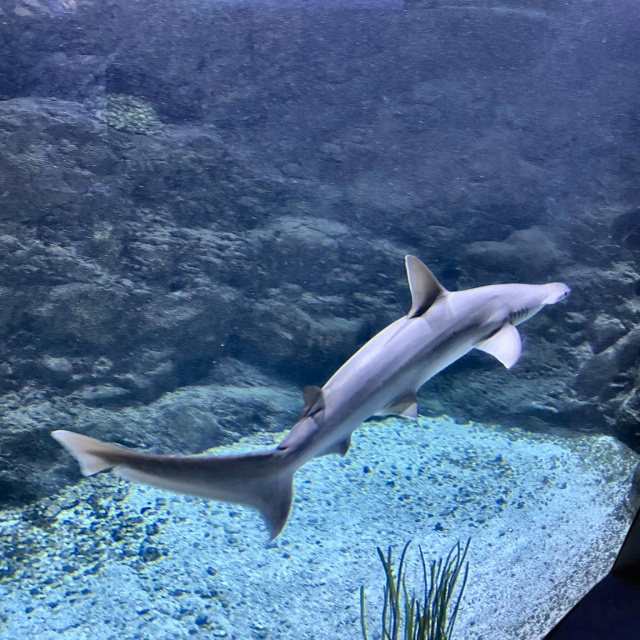shark: (55, 258, 573, 543)
